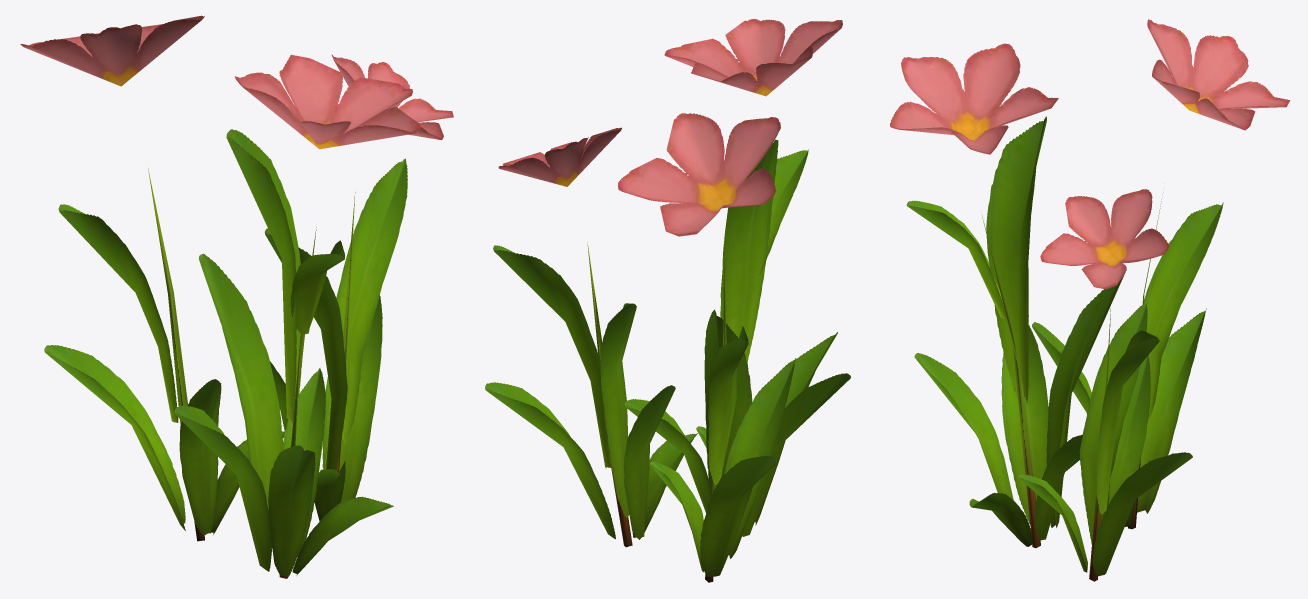
File: Flower_3_Group.gltf
The picture shows the model from 3 angles, left to right: view 1: azimuth 30°, elevation 25°; view 2: azimuth 150°, elevation 25°; view 3: azimuth 270°, elevation 25°; orthographic projection. The views are drawn at different scales.
Visible parts, largest first — view 1: Flower_3_Group; view 2: Flower_3_Group; view 3: Flower_3_Group.
Part boxes in pixels (x1,y1,x2,y2): Flower_3_Group: [20, 15, 453, 578]; Flower_3_Group: [485, 19, 850, 582]; Flower_3_Group: [890, 19, 1290, 581].
Bounding box in the file's own units: 1.49 × 2.05 × 1.59.
2 materials, 2 textured.
